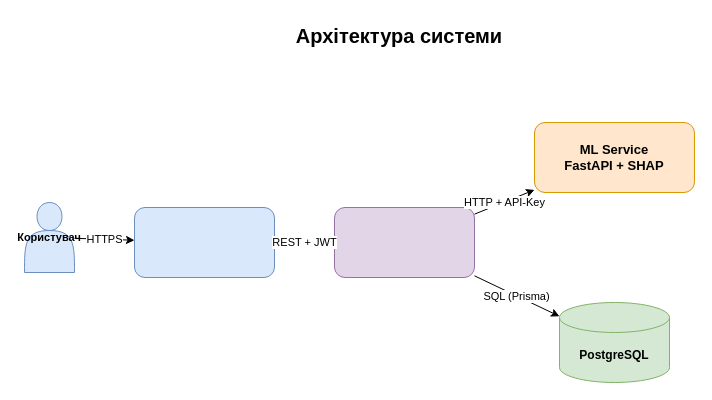
Some shapes in this 712 by 400 pixel diagram are drawn without their labels. The centre of each missing label's shape, as x and y in pixels:
"Backend NestJS" belongs at point (404, 242).
"Frontend Next.js" belongs at point (204, 242).
